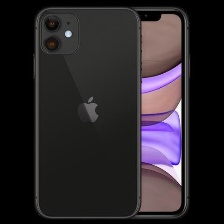phone: (32, 2, 143, 221), (89, 3, 190, 219)
